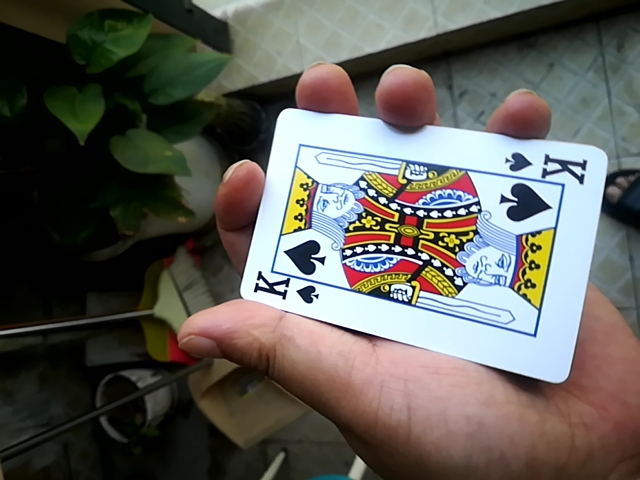ht k: (237, 103, 617, 375)
